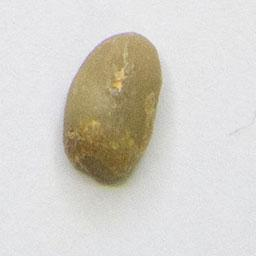longberry: (57, 25, 166, 187)
